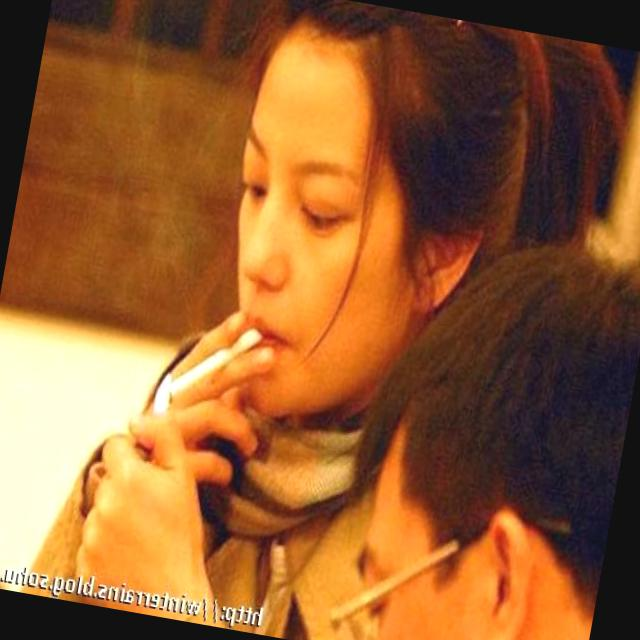cigarette: (152, 308, 258, 429)
